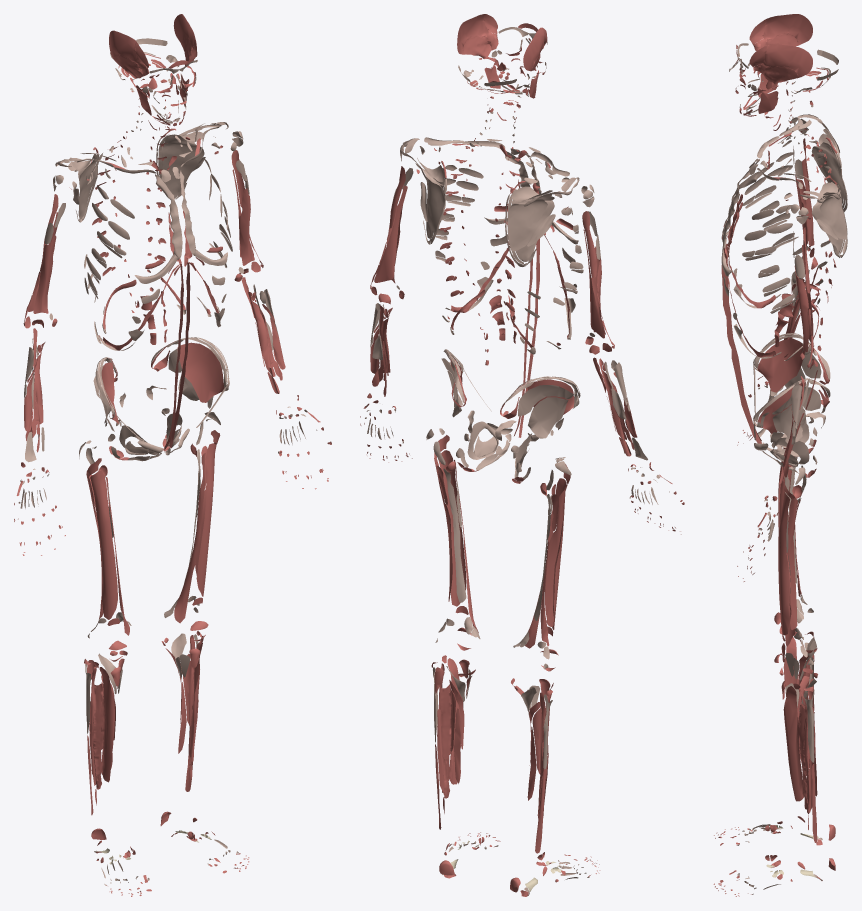
File: z-anatomy-muscular-insertions.glb
The picture shows the model from 3 angles, left to right: view 1: azimuth 30°, elevation 25°; view 2: azimuth 150°, elevation 25°; view 3: azimuth 270°, elevation 25°; orthographic projection. The views are drawn at different scales.
Parts seen in each view (by area): view 1: Vastus intermedius muscle.or.001, Iliacus muscle.ol.001, Subscapularis muscle.ol.001, Vastus intermedius muscle.ol.001, Tibialis anterior muscle.or.001, Vastus medialis muscle.ol.001, Brachialis muscle.or.001, Brachialis muscle.ol.001, Ulnar head of flexor carpi ulnaris.ol.001, Rectus abdominis muscle.el.001, Temporalis muscle.o2r.001; view 2: Infraspinatus muscle.or.001, Vastus lateralis muscle.or.001, Vastus intermedius muscle.ol.001, Gluteus minimus muscle.or.001, Adductor magnus.el.001, Tibialis posterior muscle.ol.001, Medial head of triceps brachii.ol.001, Gluteus medius muscle.or.001, Infraspinatus muscle.ol.001, Temporalis muscle.o2l.001; view 3: Iliacus muscle.or.001, Tibialis anterior muscle.ol.001, Vastus intermedius muscle.ol.001, Temporalis muscle.o2l.001, Temporalis muscle.o2r.001, Rectus abdominis muscle.el.001, Vastus lateralis muscle.ol.001, Infraspinatus muscle.ol.001, Subscapularis muscle.or.001, Gluteus minimus muscle.ol.001, Brachialis muscle.ol.001, Iliacus muscle.ol.001 (+16 smaller).
Boxes of the visible parts, x1,y1,x2,y2 form: Vastus intermedius muscle.or.001: (90,470,117,619); Iliacus muscle.ol.001: (177,342,224,402); Subscapularis muscle.ol.001: (162,136,204,196); Vastus intermedius muscle.ol.001: (197,443,216,596); Tibialis anterior muscle.or.001: (99,667,114,782); Vastus medialis muscle.ol.001: (174,453,205,623); Brachialis muscle.or.001: (33,235,56,313); Brachialis muscle.ol.001: (239,188,254,265); Ulnar head of flexor carpi ulnaris.ol.001: (248,292,275,367); Rectus abdominis muscle.el.001: (169,262,190,447); Temporalis muscle.o2r.001: (109,30,139,64); Infraspinatus muscle.or.001: (507,196,554,251); Vastus lateralis muscle.or.001: (545,464,570,626); Vastus intermedius muscle.ol.001: (438,450,466,606); Gluteus minimus muscle.or.001: (528,397,568,438); Adductor magnus.el.001: (443,468,480,638); Tibialis posterior muscle.ol.001: (439,684,455,757); Medial head of triceps brachii.ol.001: (374,185,407,282); Gluteus medius muscle.or.001: (518,385,573,416); Infraspinatus muscle.ol.001: (415,163,444,231); Temporalis muscle.o2l.001: (457,14,488,54); Iliacus muscle.or.001: (757,338,805,392); Tibialis anterior muscle.ol.001: (783,686,804,801); Vastus intermedius muscle.ol.001: (778,490,790,635); Temporalis muscle.o2l.001: (763,44,812,77); Temporalis muscle.o2r.001: (763,14,812,44); Rectus abdominis muscle.el.001: (721,247,761,443); Vastus lateralis muscle.ol.001: (783,479,798,629); Infraspinatus muscle.ol.001: (819,194,846,239); Subscapularis muscle.or.001: (811,145,843,204); Gluteus minimus muscle.ol.001: (772,405,805,442); Brachialis muscle.ol.001: (794,266,808,352); Iliacus muscle.ol.001: (757,382,805,433).
Size of the model in its own units: 0.6601 by 1.65 by 0.241.
